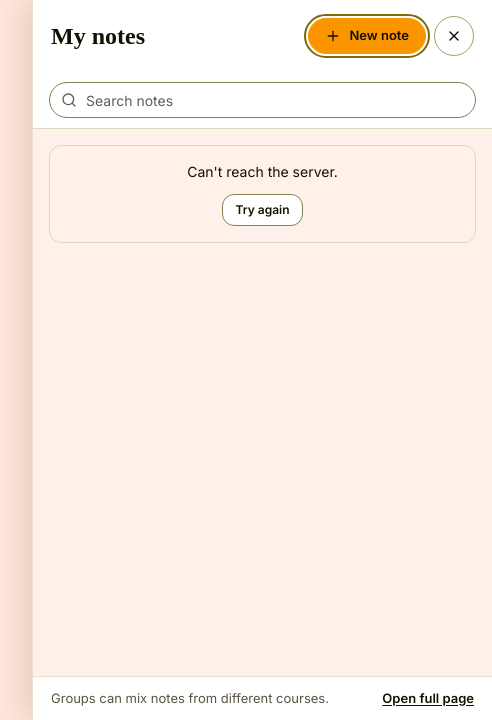
Scenario: My Notes panel › shows a retryable error when the list cannot load
Check: the message shows "Can't reach the server.", box [187,163,338,180]
Click the button "Try again" at coordinates (262, 210), box [222,194,302,226]
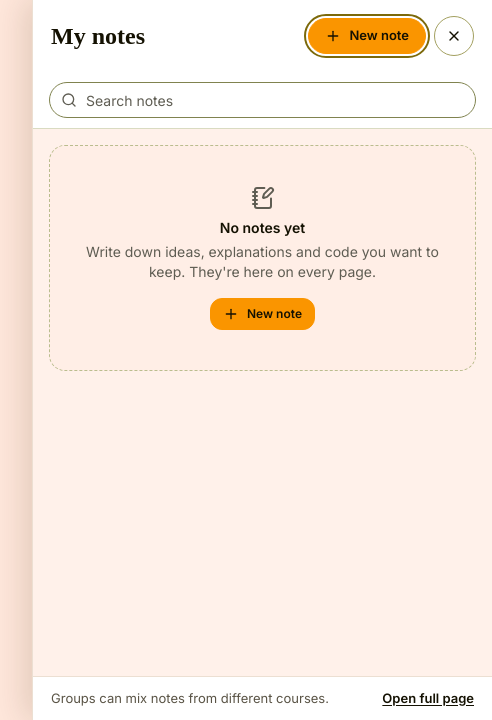
Check: the text "No notes yet" is shown, box [220,219,305,236]
